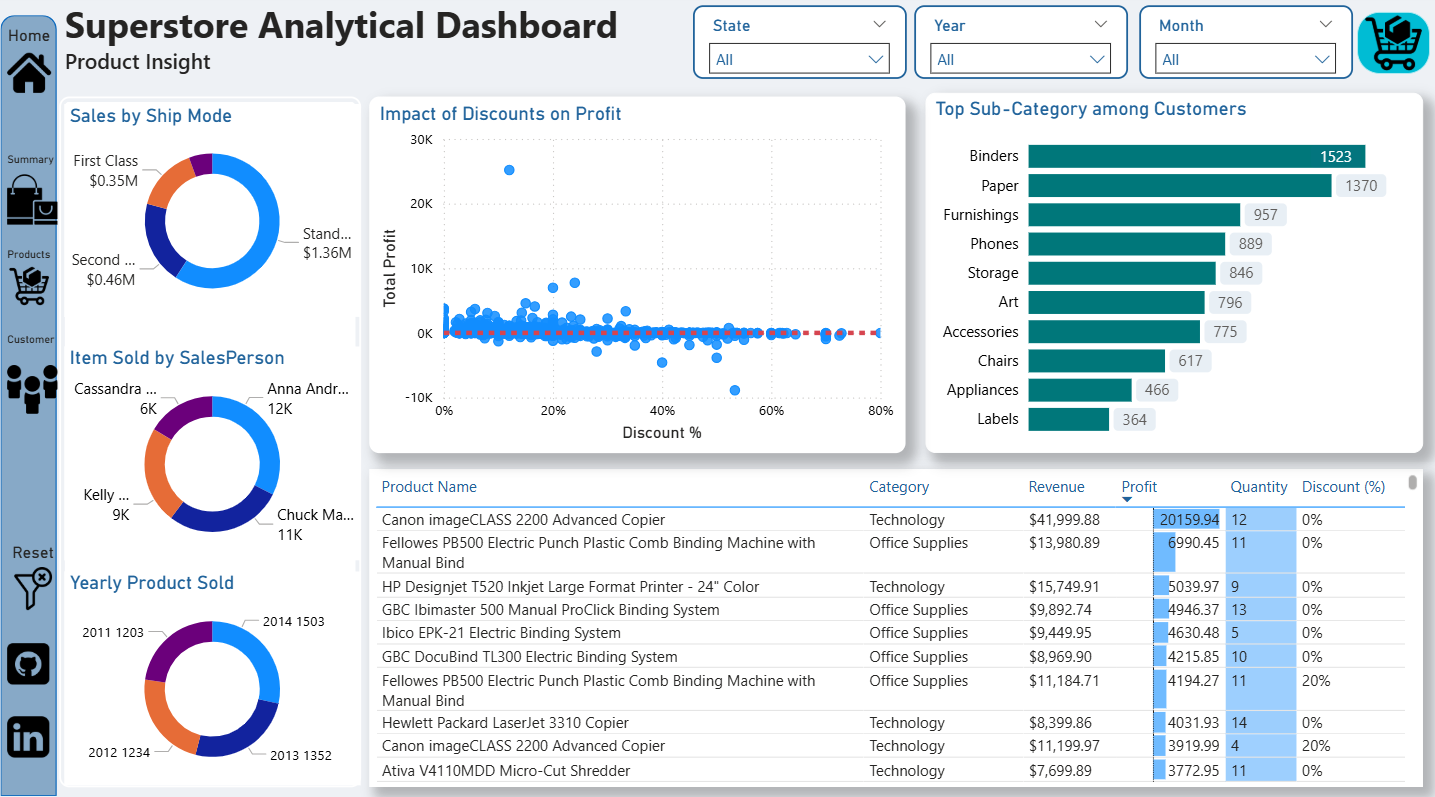

What the dashboard file says about the page in this screenshot:
{"tool":"powerbi","page":{"name":"Product Insight","canvas":[1280,720],"ordinal":2},"visuals":[{"type":"shape","box":[54.3,91.7,269,615.3],"z":0},{"type":"textbox","box":[54.3,0,539.3,82],"z":1000},{"type":"shape","box":[1.9,19.5,50,695.4],"z":1500,"group":"g1"},{"type":"donutChart","title":"Item Sold by SalesPerson","fields":{"Category":["People.Person"],"Y":["Sum(Orders.Quantity)"]},"box":[59.3,314,264,190.7],"z":2000},{"type":"tableEx","fields":{"Values":["Orders.Product Name","Orders.Category","Sum(Orders.Sales)","Sum(Orders.Profit)","Sum(Orders.Quantity)","Orders.Discount"]},"box":[330.6,423.5,938.6,283.5],"z":3000},{"type":"image","title":"Reset","box":[3.5,489.1,55.8,65.1],"z":3000,"group":"g1"},{"type":"donutChart","title":"Sales by Ship Mode","fields":{"Category":["Orders.Ship Mode"],"Y":["Sum(Orders.Sales)"]},"box":[59.3,97.7,264,189.5],"z":4000},{"type":"clusteredBarChart","title":"Top Sub-Category among Customers","fields":{"Y":["CountNonNull(Orders.Customer ID)"],"Category":["Orders.Sub-Category"]},"box":[826.1,87.8,443.2,321.1],"z":5000},{"type":"donutChart","title":"Yearly Product Sold","fields":{"Category":["Orders.Year"],"Y":["_Measure Table.Products"]},"box":[59.3,514,264,190.7],"z":6000},{"type":"slicer","fields":{"Values":["Orders.State"]},"box":[618.9,10,190,65.7],"z":8000},{"type":"slicer","fields":{"Values":["Date Table.Year"]},"box":[816,10,190,65.7],"z":9000},{"type":"slicer","fields":{"Values":["Orders.Month Name(Delivery)"]},"box":[1016.3,10,190,65.7],"z":10000},{"type":"image","title":"Products","box":[1205.2,10.9,74.8,65.1],"z":11000},{"type":"group","id":"g1","title":"Group 1","box":[1.9,19.5,57.5,695.4],"z":12000},{"type":"scatterChart","title":"Impact of Discounts on Profit","fields":{"X":["Avg(Orders.Discount)"],"Y":["Sum(Orders.Profit)"],"Category":["Orders.Product Name"]},"box":[330.8,91.5,477.6,317.3],"z":13000},{"type":"image","title":"Home","box":[3.5,28.9,49,67.9],"z":15000,"group":"g1"},{"type":"image","title":"Summary","box":[3.5,142.4,54.5,72.4],"z":16000,"group":"g1"},{"type":"image","title":"Products","box":[3,226.5,48.8,58.1],"z":17000,"group":"g1"},{"type":"image","title":"Customer","box":[3.5,302.7,54.5,90.2],"z":18000,"group":"g1"},{"type":"image","box":[3.5,568.7,47.1,57.9],"z":19000,"group":"g1"},{"type":"image","box":[3.5,626.6,47.1,72.4],"z":20000,"group":"g1"}]}

Visuals, with their boxes in screenshot pixels (x1, y1, x2, y2), scaled from the page's 1280x720 canvas onto the 1435x797 screenshot:
shape: select_region(61, 102, 362, 783)
textbox: select_region(61, 0, 665, 91)
shape: select_region(2, 22, 58, 791)
"Item Sold by SalesPerson" donutChart: select_region(66, 348, 362, 559)
tableEx - Orders.Product Name x Orders.Category: select_region(371, 469, 1423, 783)
"Reset" image: select_region(4, 541, 66, 613)
"Sales by Ship Mode" donutChart: select_region(66, 108, 362, 318)
"Top Sub-Category among Customers" clusteredBarChart: select_region(926, 97, 1423, 453)
"Yearly Product Sold" donutChart: select_region(66, 569, 362, 780)
slicer - Orders.State: select_region(694, 11, 907, 84)
slicer - Date Table.Year: select_region(915, 11, 1128, 84)
slicer - Orders.Month Name(Delivery): select_region(1139, 11, 1352, 84)
"Products" image: select_region(1351, 12, 1434, 84)
"Group 1" group: select_region(2, 22, 67, 791)
"Impact of Discounts on Profit" scatterChart: select_region(371, 101, 906, 453)
"Home" image: select_region(4, 32, 59, 107)
"Summary" image: select_region(4, 158, 65, 238)
"Products" image: select_region(3, 251, 58, 315)
"Customer" image: select_region(4, 335, 65, 435)
image: select_region(4, 630, 57, 694)
image: select_region(4, 694, 57, 774)
